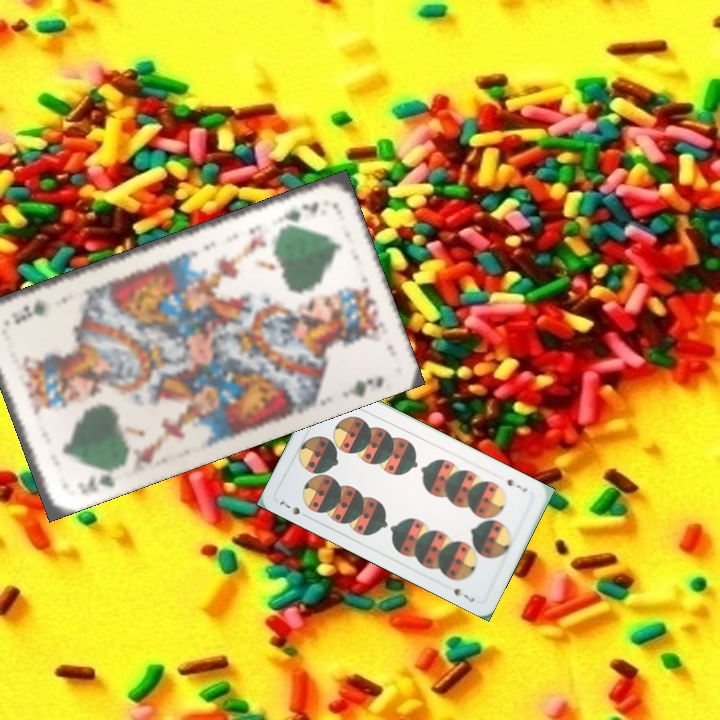GK: (73, 463, 119, 498), (273, 198, 322, 225)
S7: (275, 497, 312, 521), (503, 475, 530, 495)
